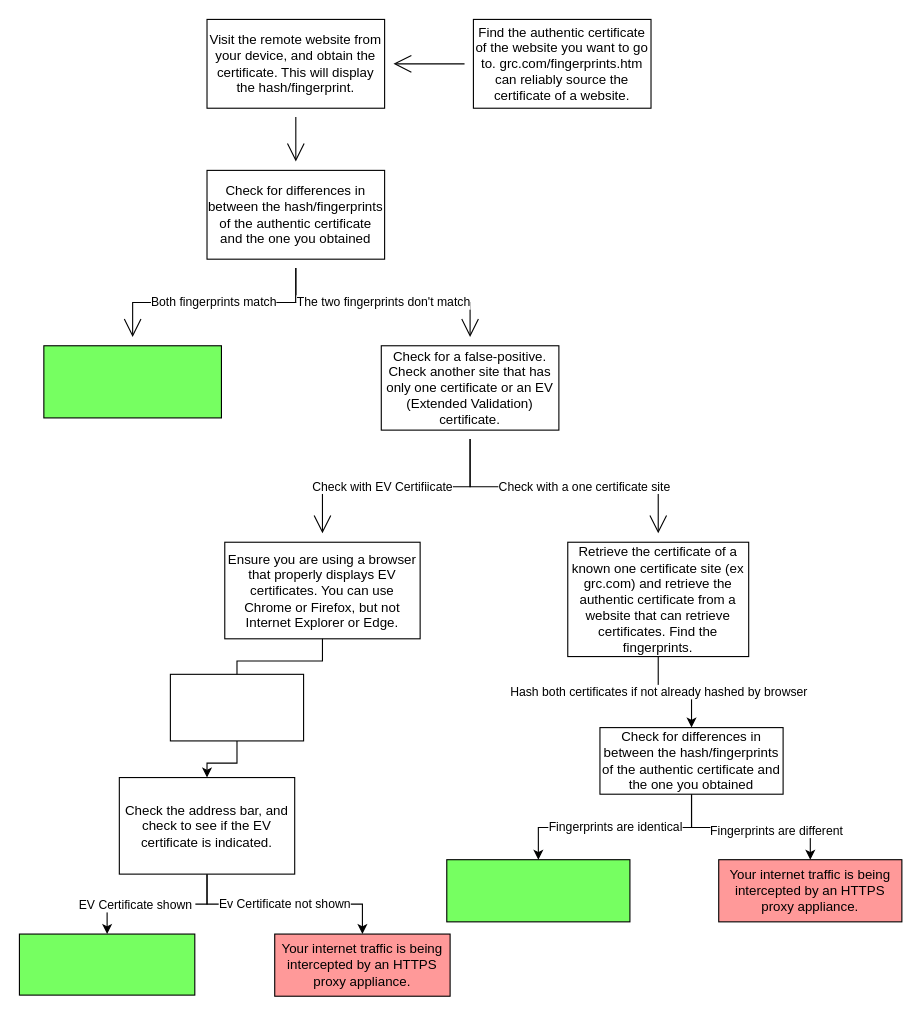
Image size: 921x1016. Some labels were removed from this diagram. The centre of each missing label's shape, as x and y in pixels:
Visit a website known to use an EV Certificate (ex. www.GRC.com): (x=236, y=707)
Your internet traffic is being intercepted by an HTTPS proxy appliance: (x=538, y=890)
Your internet traffic is not being intercepted by an HTTPS proxy appliance: (x=106, y=964)
Your traffic is not being intercepted by an HTTPS proxy appliance.: (x=132, y=381)
